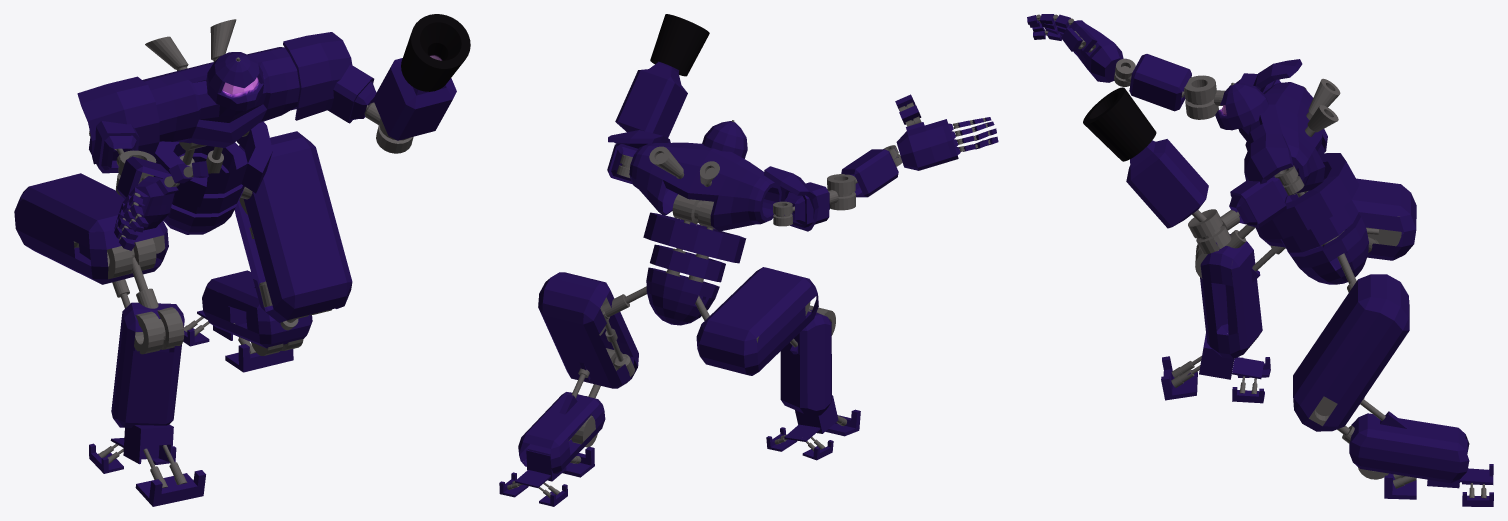
The model's file is BMS3.obj.
3 renders of one model, left to right at view 1: azimuth 30°, elevation 25°; view 2: azimuth 150°, elevation 25°; view 3: azimuth 270°, elevation 25°, orthographic. The views are drawn at different scales.
Parts seen in each view (by area): view 1: Cylinder.037_Cylinder.041, Cylinder.004_Cylinder.012, Cylinder.010_Cylinder.009, Cylinder.006_Cylinder.005, Cylinder.000_Cylinder.003, Cylinder.012_Cylinder.011, Cylinder.014, Cylinder.011_Cylinder.010, Cylinder.003_Cylinder.002, Cylinder.005_Cylinder.004, Cylinder.007_Cylinder.006, Cylinder.020 (+7 smaller); view 2: Cylinder.037_Cylinder.041, Cylinder.000_Cylinder.003, Cylinder.010_Cylinder.009, Cylinder.004_Cylinder.012, Cylinder.006_Cylinder.005, Cylinder.012_Cylinder.011, Cylinder.014, Cylinder.007_Cylinder.006, Cylinder.009_Cylinder.008, Cylinder.008_Cylinder.007, Cylinder.003_Cylinder.002, Cylinder.019 (+5 smaller); view 3: Cylinder.004_Cylinder.012, Cylinder.000_Cylinder.003, Cylinder.037_Cylinder.041, Cylinder.006_Cylinder.005, Cylinder.014, Cylinder.012_Cylinder.011, Cylinder.005_Cylinder.004, Cylinder.010_Cylinder.009, Cylinder.008_Cylinder.007, Cylinder.003_Cylinder.002, Cylinder.007_Cylinder.006, Cylinder.009_Cylinder.008 (+8 smaller).
Part boxes in pixels (x1,y1,x2,y2): Cylinder.037_Cylinder.041: (77, 19, 352, 164); Cylinder.004_Cylinder.012: (234, 131, 352, 322); Cylinder.010_Cylinder.009: (14, 173, 168, 284); Cylinder.006_Cylinder.005: (373, 14, 470, 140); Cylinder.000_Cylinder.003: (152, 122, 272, 234); Cylinder.012_Cylinder.011: (111, 302, 184, 427); Cylinder.014: (202, 270, 312, 348); Cylinder.011_Cylinder.010: (112, 257, 184, 354); Cylinder.003_Cylinder.002: (206, 52, 263, 110); Cylinder.005_Cylinder.004: (327, 64, 413, 153); Cylinder.007_Cylinder.006: (89, 121, 156, 196); Cylinder.020: (135, 445, 205, 506); Cylinder.037_Cylinder.041: (608, 130, 818, 231); Cylinder.000_Cylinder.003: (600, 194, 746, 325); Cylinder.010_Cylinder.009: (696, 267, 818, 375); Cylinder.004_Cylinder.012: (538, 272, 638, 388); Cylinder.006_Cylinder.005: (615, 14, 709, 137); Cylinder.012_Cylinder.011: (780, 309, 831, 416); Cylinder.014: (518, 392, 605, 473); Cylinder.007_Cylinder.006: (773, 174, 855, 227); Cylinder.009_Cylinder.008: (896, 119, 960, 170); Cylinder.008_Cylinder.007: (841, 145, 902, 197); Cylinder.003_Cylinder.002: (702, 120, 747, 158); Cylinder.019: (784, 395, 838, 441); Cylinder.004_Cylinder.012: (1293, 274, 1409, 431); Cylinder.000_Cylinder.003: (1259, 153, 1378, 292); Cylinder.037_Cylinder.041: (1238, 59, 1340, 195); Cylinder.006_Cylinder.005: (1083, 87, 1208, 228); Cylinder.014: (1349, 413, 1469, 483); Cylinder.012_Cylinder.011: (1200, 234, 1262, 358); Cylinder.005_Cylinder.004: (1188, 165, 1304, 253); Cylinder.010_Cylinder.009: (1255, 178, 1416, 260); Cylinder.008_Cylinder.007: (1114, 54, 1191, 111); Cylinder.003_Cylinder.002: (1215, 82, 1268, 130); Cylinder.007_Cylinder.006: (1184, 73, 1306, 119); Cylinder.009_Cylinder.008: (1069, 20, 1123, 82).
Bounding box in the file's own units: 13.99 × 15.6 × 16.16.
1 material, 1 textured.
